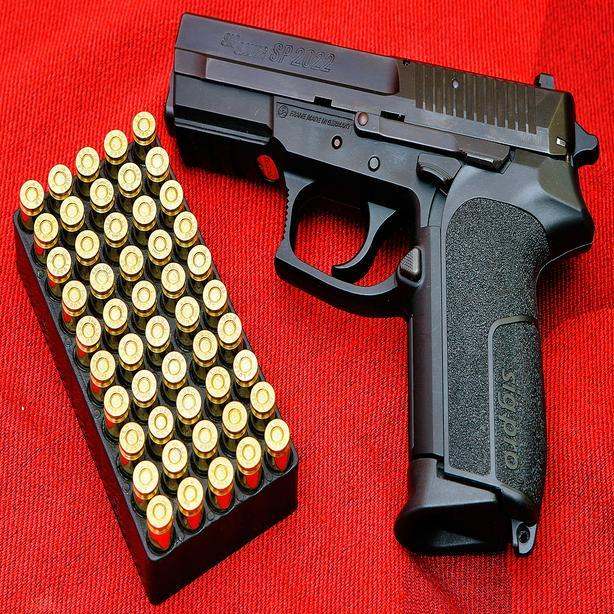Firearm: (162, 0, 606, 566)
